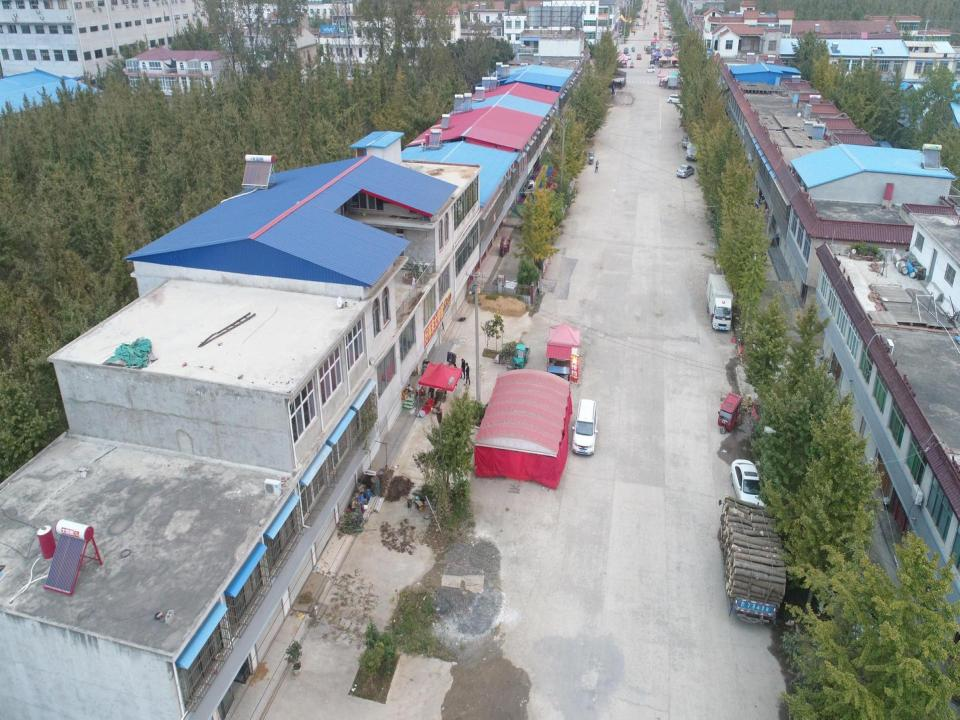car: (730, 458, 768, 514), (571, 398, 599, 458), (666, 93, 687, 107), (677, 162, 694, 178), (625, 53, 632, 60), (636, 52, 642, 60), (646, 44, 652, 52), (623, 47, 629, 54), (664, 17, 670, 24), (666, 44, 671, 52), (630, 26, 636, 32), (636, 21, 642, 26), (662, 6, 666, 10)
truck: (718, 495, 785, 625), (520, 178, 552, 200)
